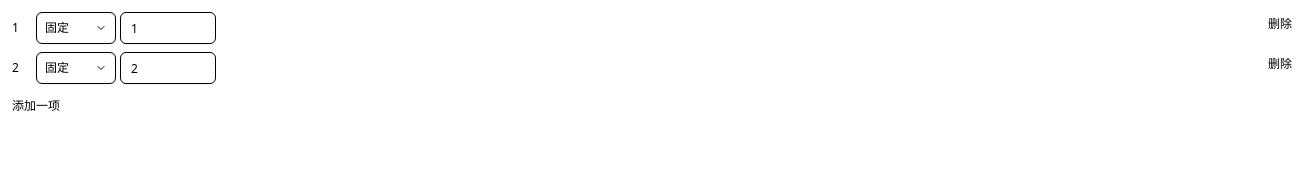
Scenario: 节点配置可读性 › 删除列表前项后保留后一项的无效草稿
The image size is (1304, 172).
Replace the text in the 2nd field named "固定值" with "unfinished": (168, 68) [131,53,205,83]
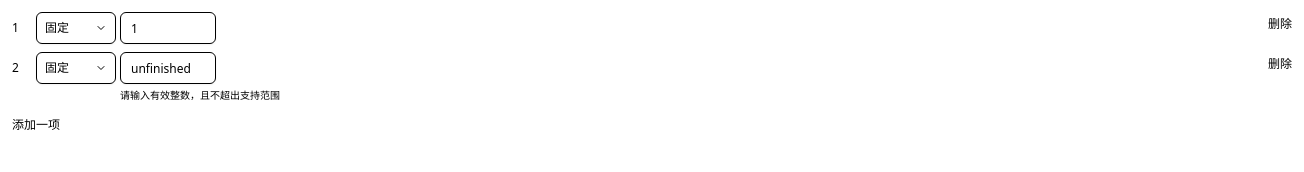
Click the button with aria-label "删除第 1 项": (1280, 24) [1268,12,1292,36]
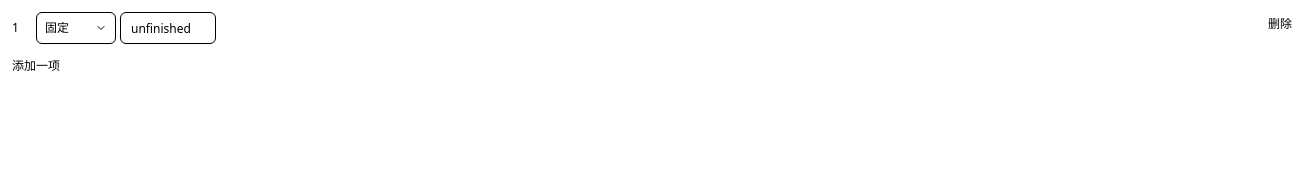
Expected: the field named "固定值" holds "unfinished", [131,13,205,43]
